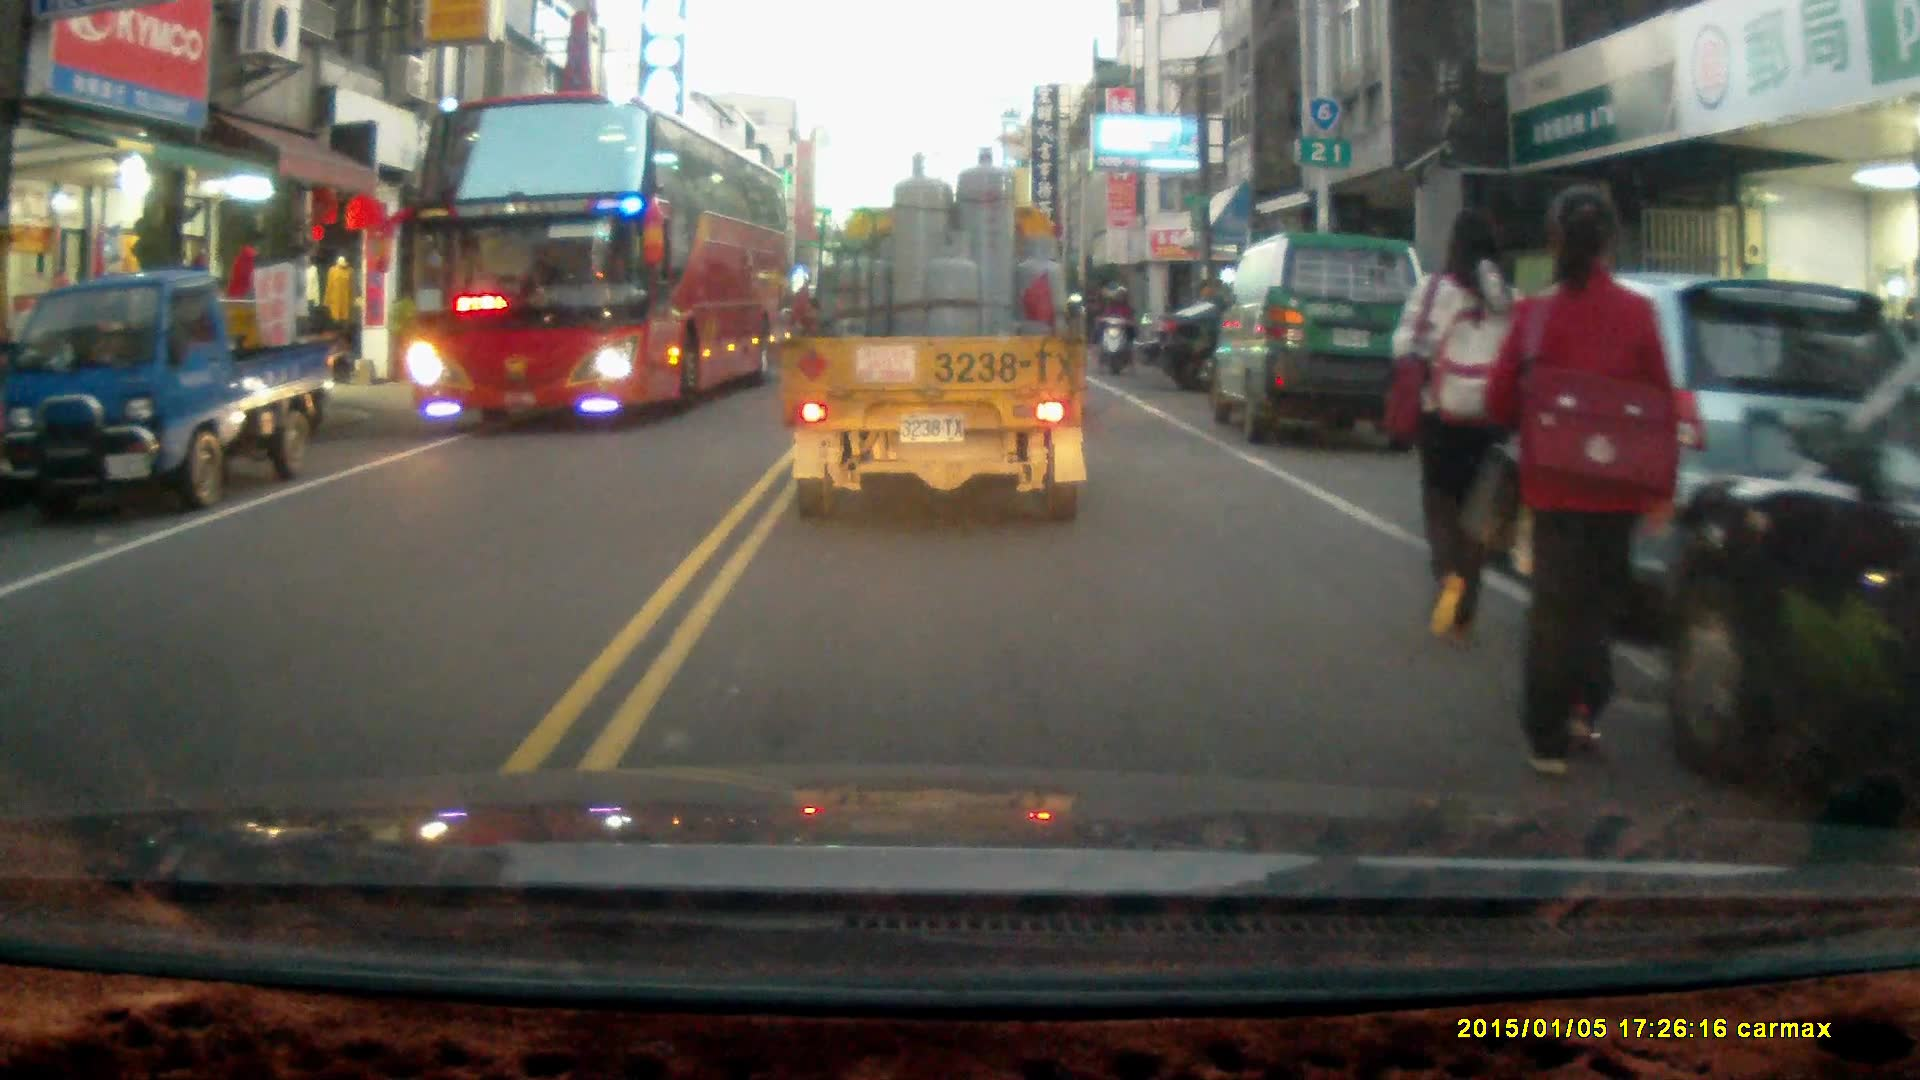pedestrian: (1478, 184, 1676, 782), (1391, 200, 1528, 658)
rider: (1093, 283, 1136, 375)
vehicle: (400, 94, 792, 432), (1655, 356, 1920, 809), (781, 145, 1094, 525), (1, 272, 335, 513), (1211, 231, 1431, 441), (1132, 301, 1425, 398)
